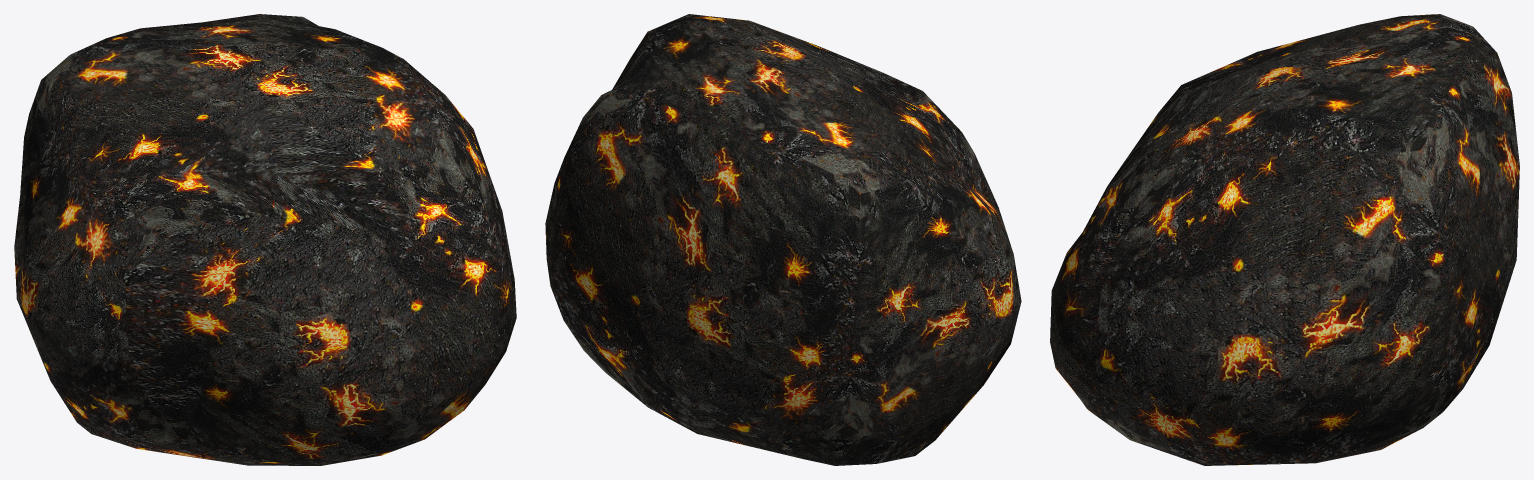
Rendered from asteroid_moltenrock_small_s02_l0.fbx.
3 views of the same model, side by side, from view 1: azimuth 30°, elevation 25°; view 2: azimuth 150°, elevation 25°; view 3: azimuth 270°, elevation 25° (orthographic). The views are drawn at different scales.
Visible parts, largest first — view 1: mesh_node; view 2: mesh_node; view 3: mesh_node.
Boxes of the visible parts, left/top/right/bottom form: mesh_node: left=14, top=14, right=516, bottom=465; mesh_node: left=545, top=14, right=1021, bottom=465; mesh_node: left=1050, top=14, right=1519, bottom=465.
Bounding box in the file's own units: 27.91 × 22.15 × 25.09.
1 material, 1 textured.
